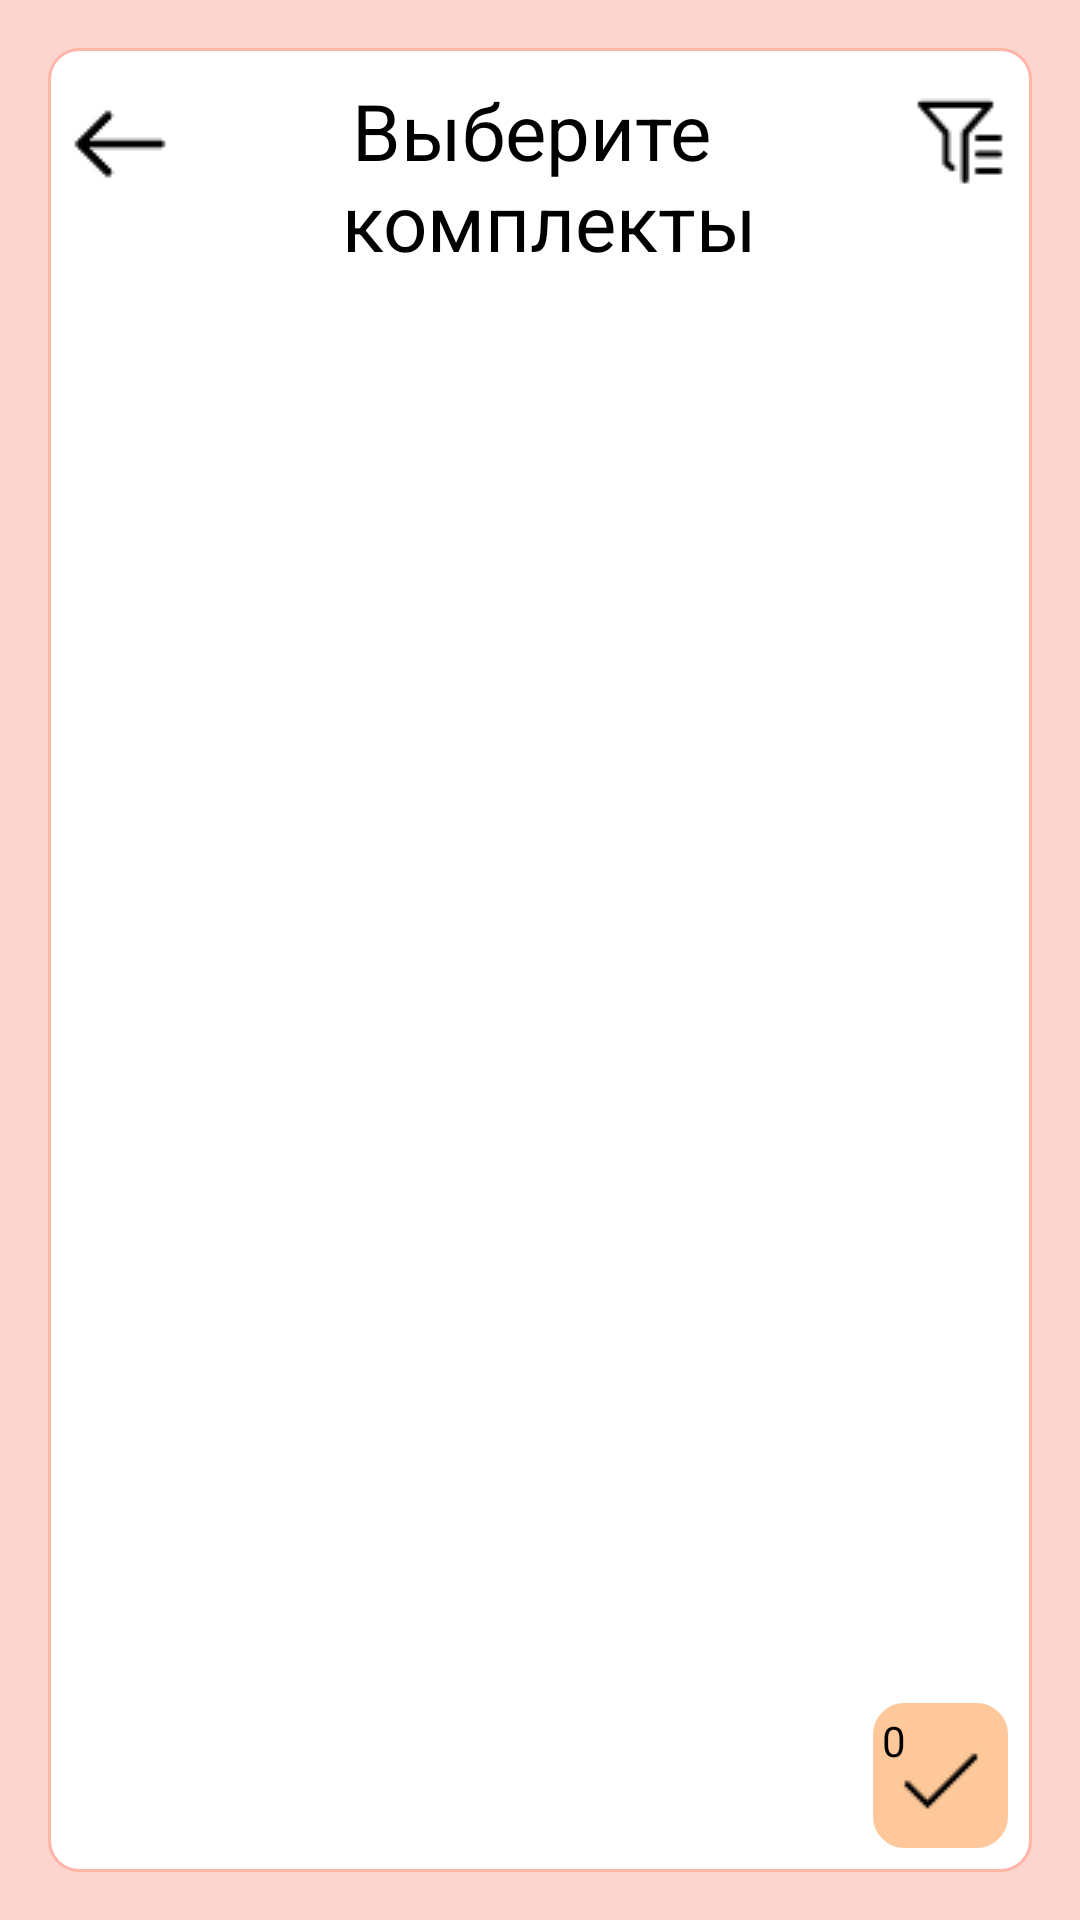

Icons on this 1080×1920 Android screen, each with the point to tap as [x,y]:
back: [120,144]
check: [940,1780]
filter: [960,141]
